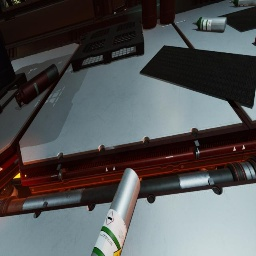0: (91, 168, 140, 256), (192, 17, 227, 32), (228, 0, 256, 7)
FirstAidBox ,: (254, 36, 256, 44)
NitrogenTank ,: (14, 64, 59, 108)
